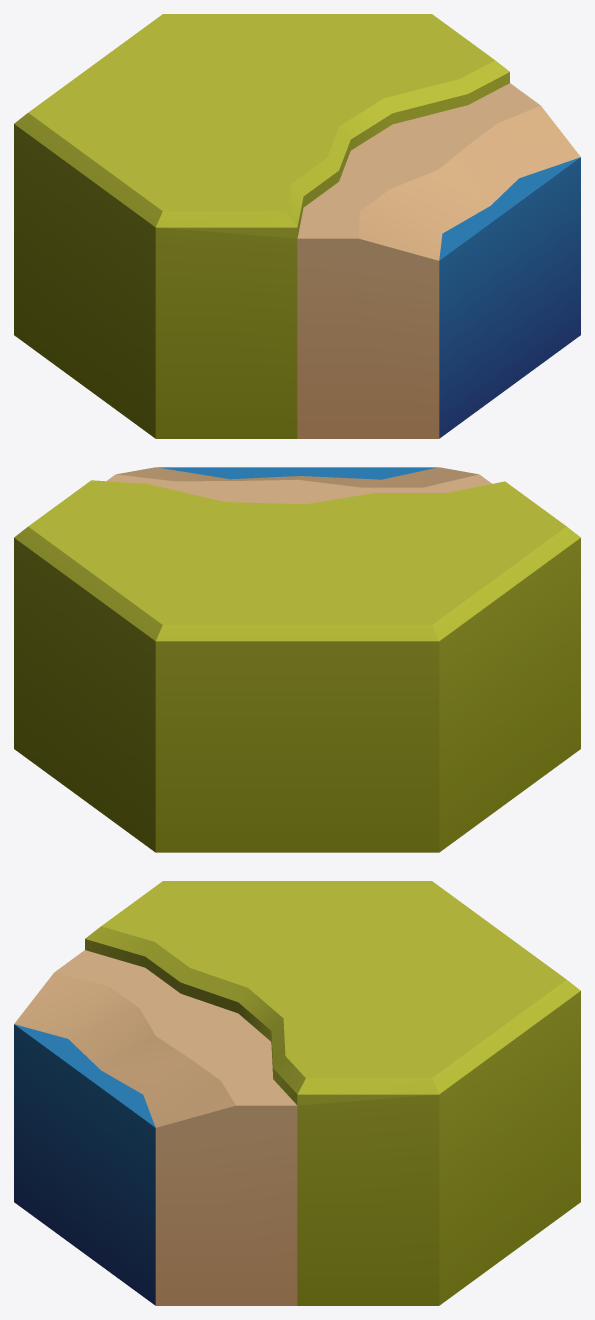
File: hex_coast_A.glb
The picture shows the model from 3 angles, top to bottom: view 1: azimuth 30°, elevation 25°; view 2: azimuth 150°, elevation 25°; view 3: azimuth 270°, elevation 25°; orthographic projection.
Visible parts, largest first — view 1: hex_coast_A; view 2: hex_coast_A; view 3: hex_coast_A.
Part boxes in pixels (left/top/right/bottom): hex_coast_A: left=14, top=14, right=580, bottom=438; hex_coast_A: left=14, top=467, right=580, bottom=852; hex_coast_A: left=14, top=881, right=580, bottom=1305.
Size of the model in its own units: 2 by 1 by 2.31.
1 material, 1 textured.
